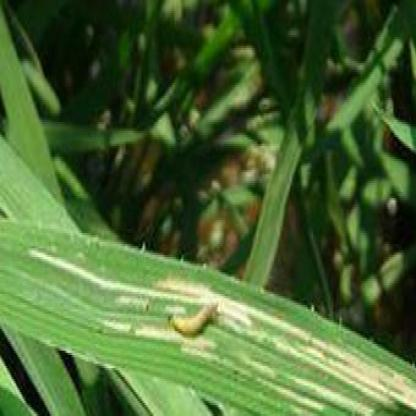leaf-folder: (171, 287, 217, 357)
